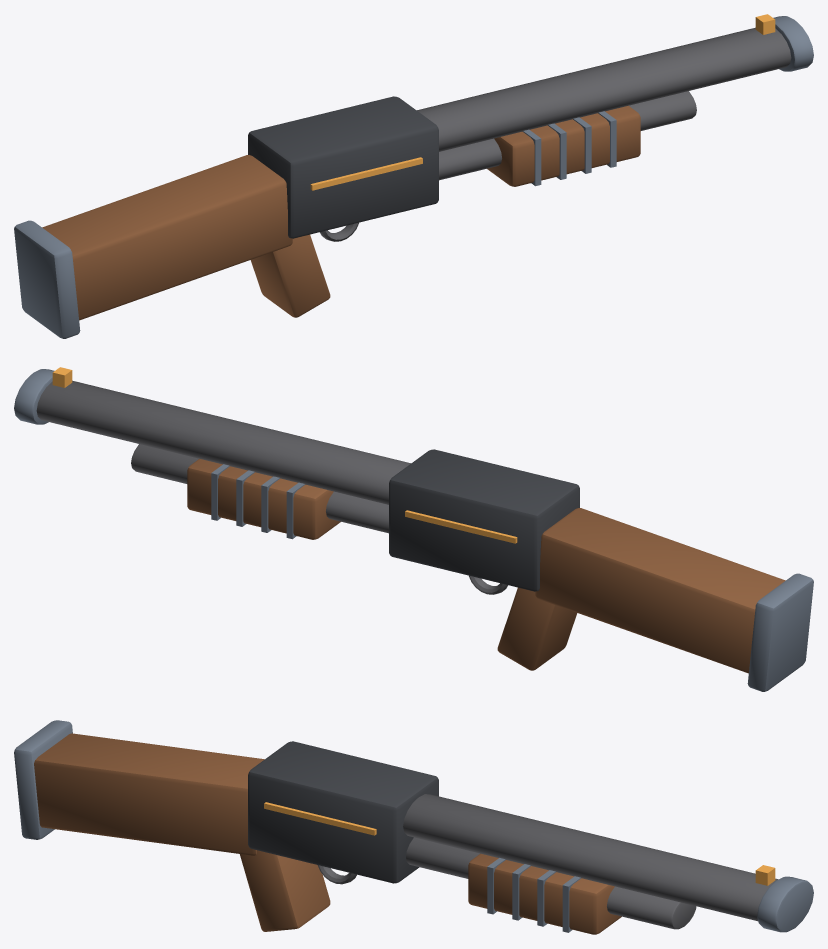
The model's file is SGP_Shotgun_Classic.glb.
3 renders of one model, top to bottom at view 1: azimuth 30°, elevation 25°; view 2: azimuth 150°, elevation 25°; view 3: azimuth 330°, elevation 25°, orthographic.
Parts seen in each view (by area): view 1: SGP_Shotgun_Classic; view 2: SGP_Shotgun_Classic; view 3: SGP_Shotgun_Classic.
Boxes of the visible parts, x1,y1,x2,y2 form: SGP_Shotgun_Classic: (14, 14, 813, 338); SGP_Shotgun_Classic: (14, 367, 813, 691); SGP_Shotgun_Classic: (14, 720, 813, 934).
Size of the model in its own units: 0.759 by 0.1617 by 0.0832.
